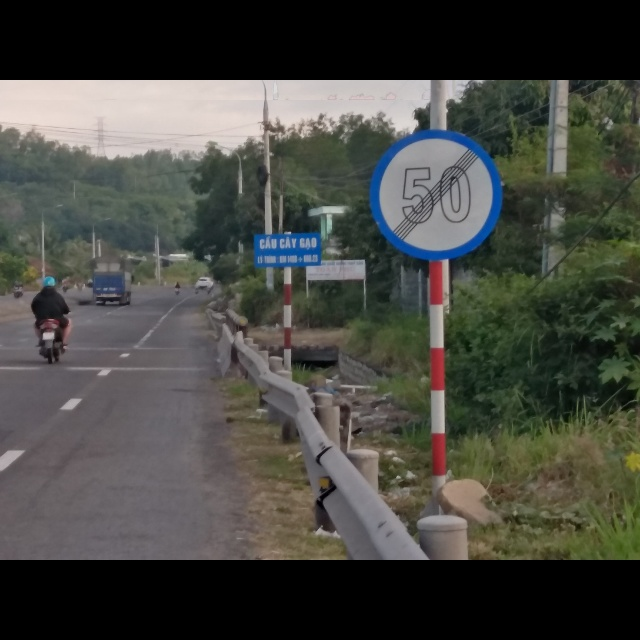Hết hạn chế tốc độ tối đa 50km/h: (367, 127, 504, 261)
